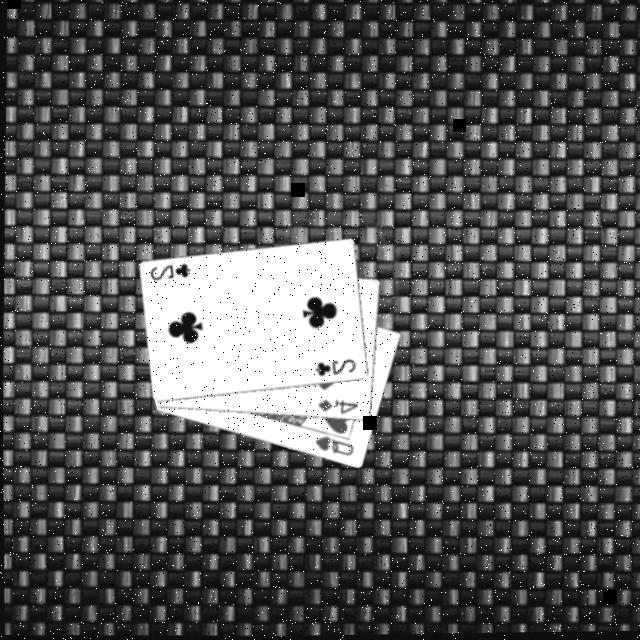2C: (313, 353, 359, 379), (148, 258, 194, 283)
4D: (315, 394, 361, 417)
QH: (312, 431, 357, 459)
